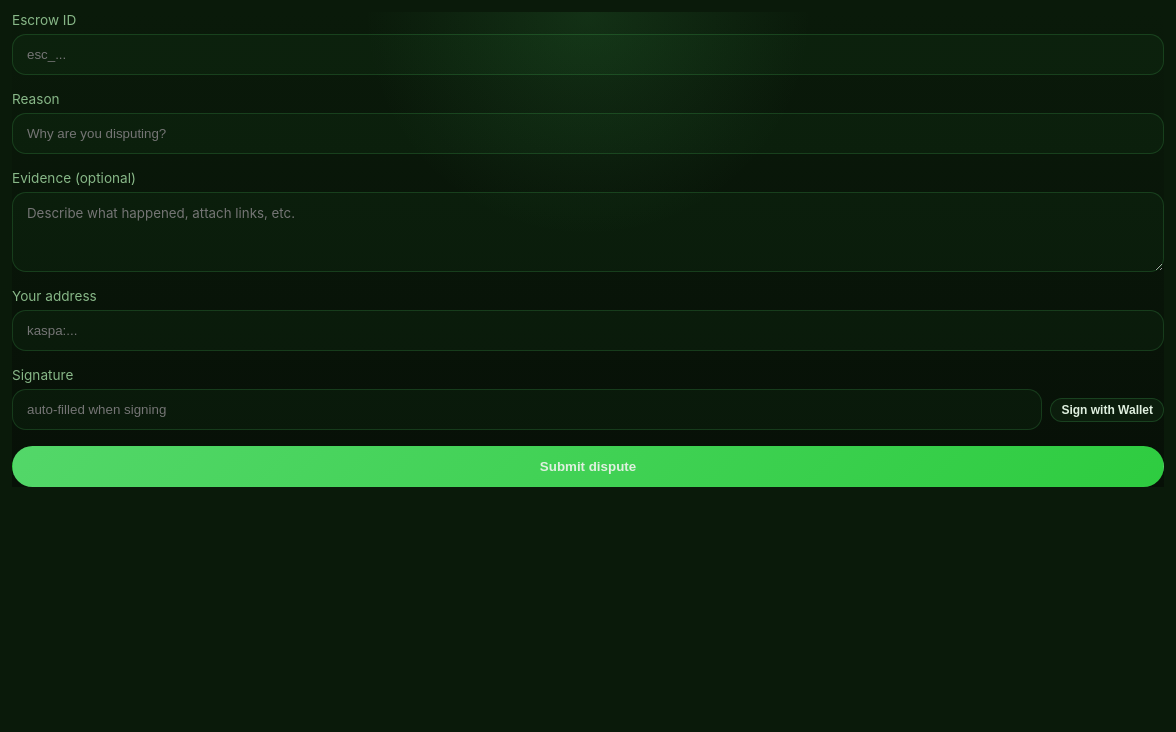
Test case: DisputeWithEvidenceForm › shows error when auth missing
Type "esc_1" into the field with placeholder "esc_..." at (588, 54), box left=12, top=34, right=1164, bottom=75
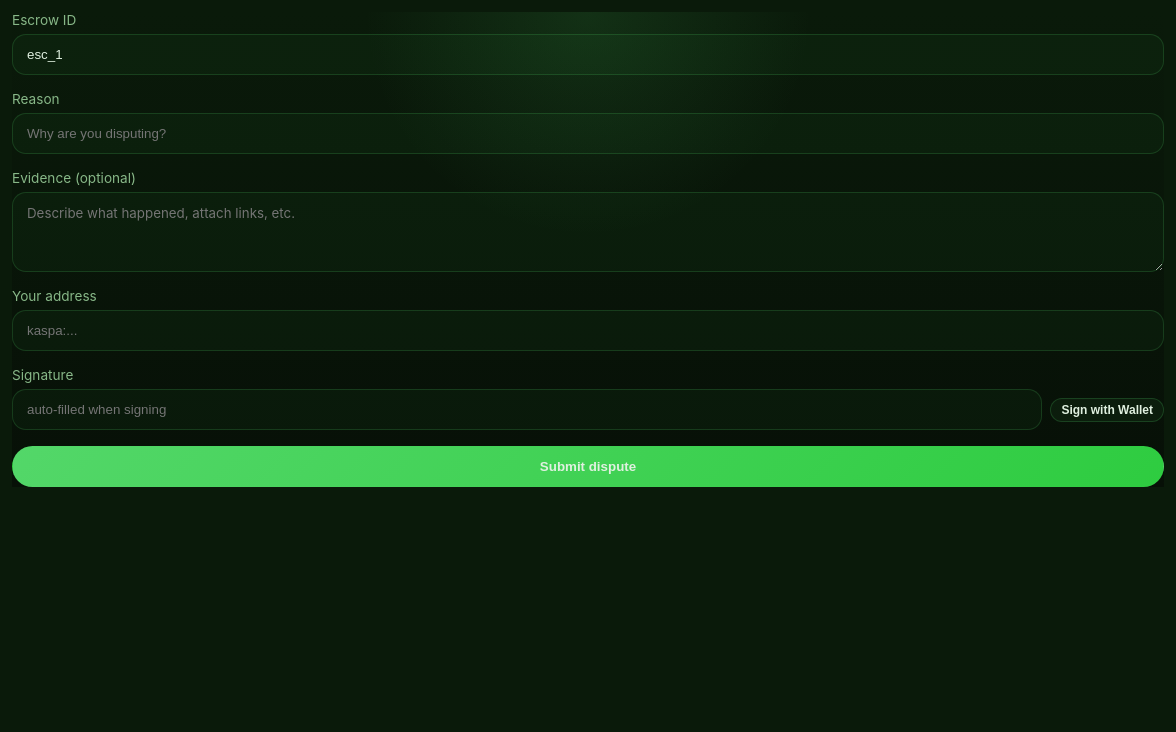
Type "Some reason" into the field with placeholder "Why are you disputing?" at (588, 134), box left=12, top=113, right=1164, bottom=154
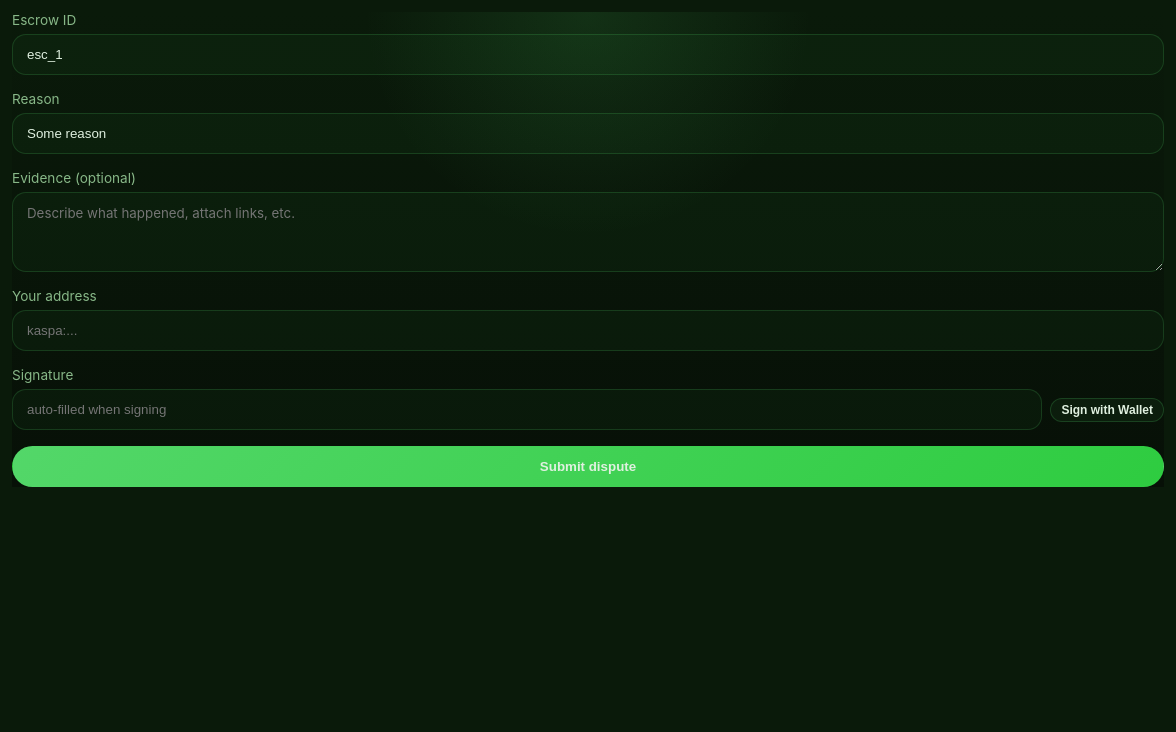
Click the button "Submit dispute" at (588, 466), box left=12, top=446, right=1164, bottom=487
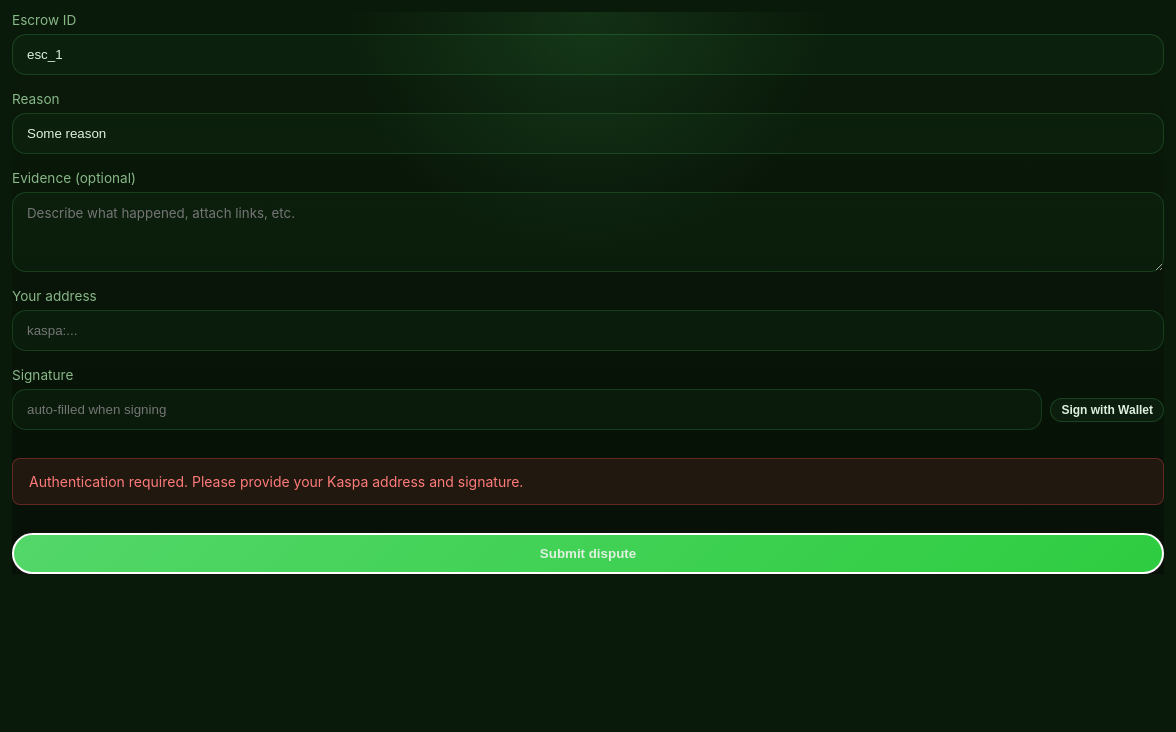
Now the text "Authentication required" is shown, box left=29, top=473, right=523, bottom=490
